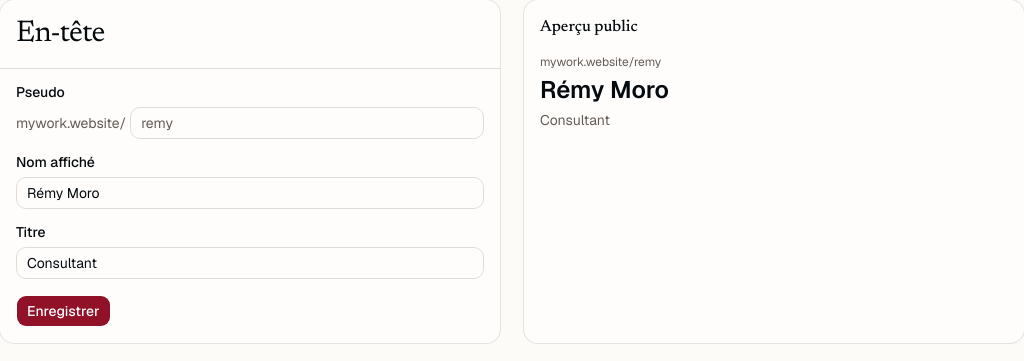
Test: ProfileEditor › met l'aperçu à jour en direct
The image size is (1024, 361).
Replace the text in the field labelled "Nom affiché" with "Remy M." at (250, 193), box [16,177,484,209]
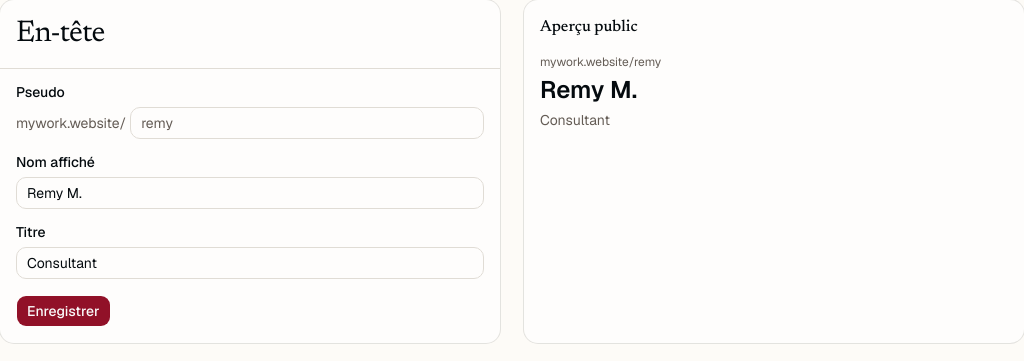
Clear the field labelled "Titre" at (250, 263), box [16,247,484,279]
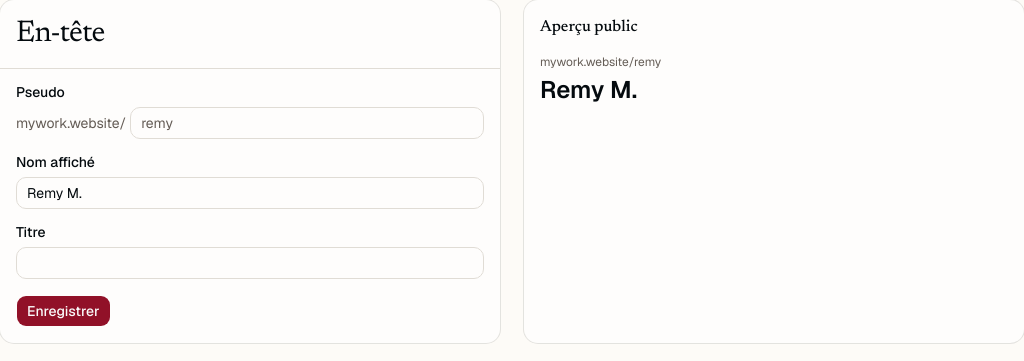
Result: the text with test id "preview-name" reads "Remy M." at [540,74,637,105]
Result: the text with test id "preview-headline" is gone
